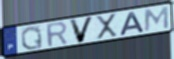A: (118, 11, 146, 37)
M: (144, 5, 170, 33)
Q: (20, 25, 44, 51)
R: (45, 20, 70, 48)
V: (68, 15, 96, 44)
X: (94, 12, 119, 41)
